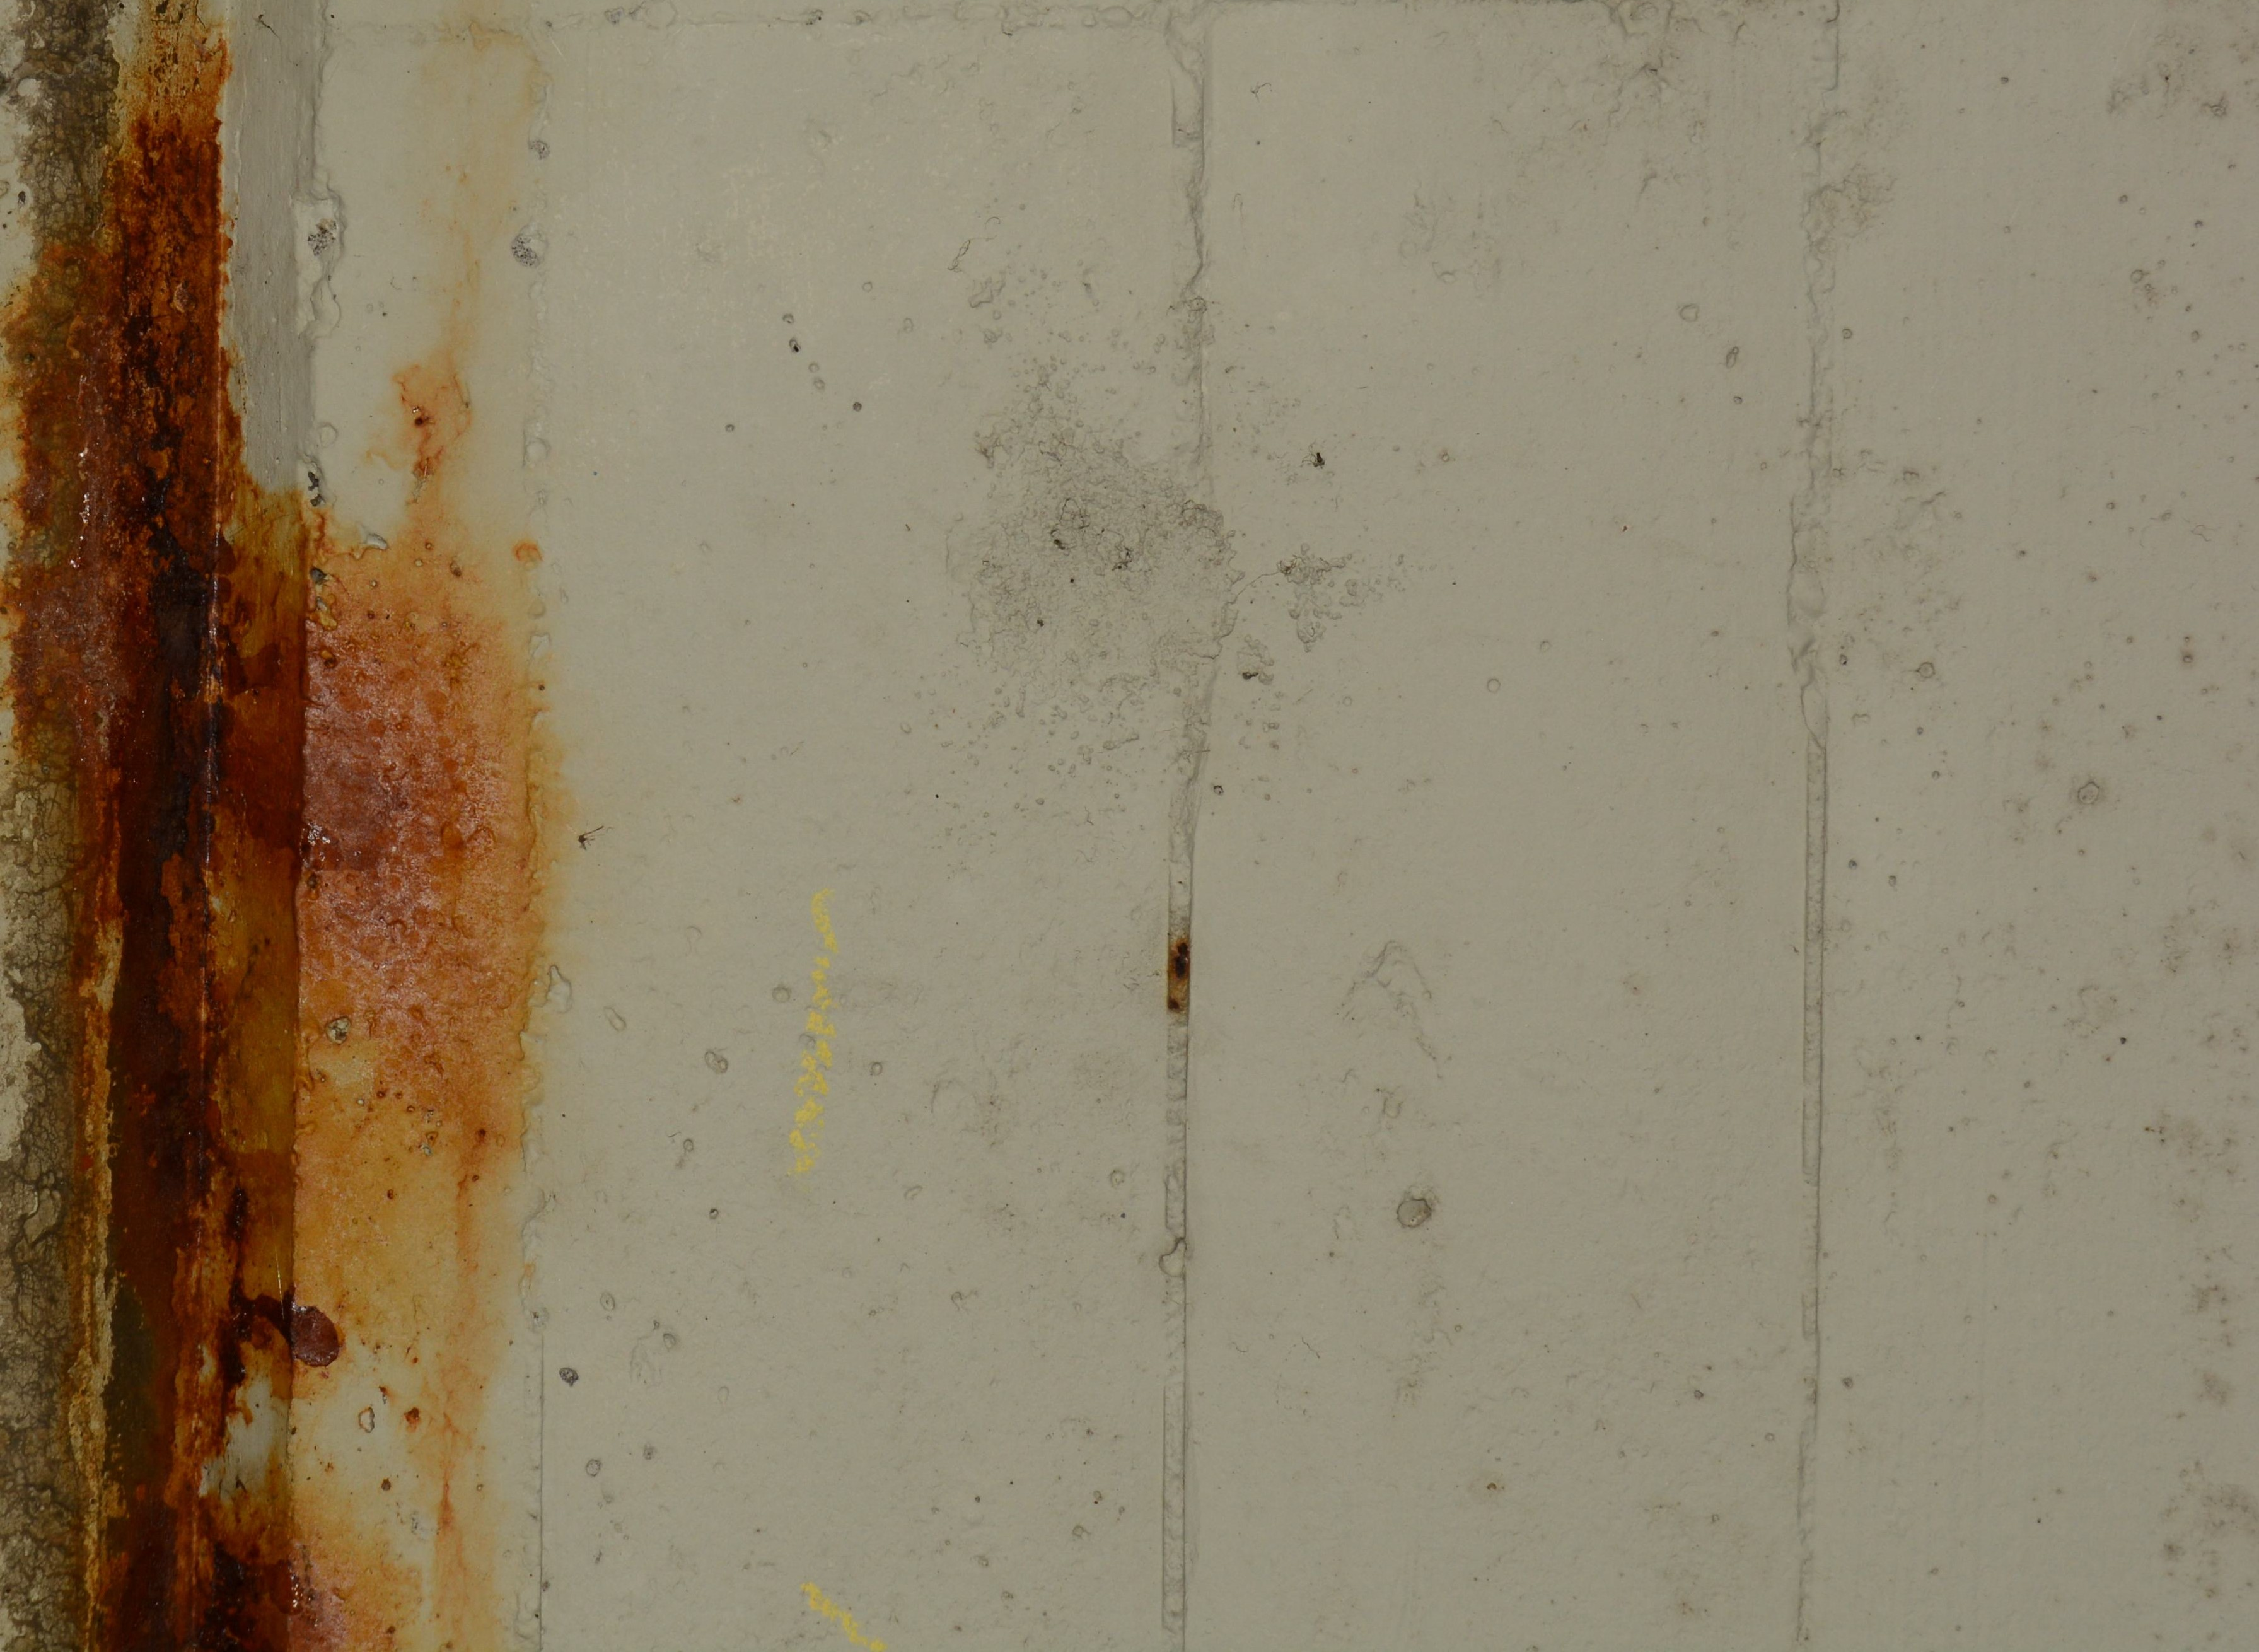Corrosion: (0, 0, 545, 1652), (1168, 938, 1191, 1012)
Spalling: (1158, 1236, 1189, 1280), (1394, 1196, 1433, 1229)
